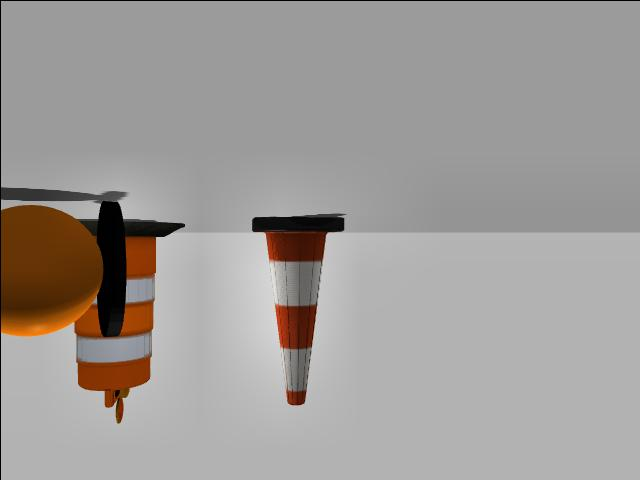target: (0, 200, 126, 336)
